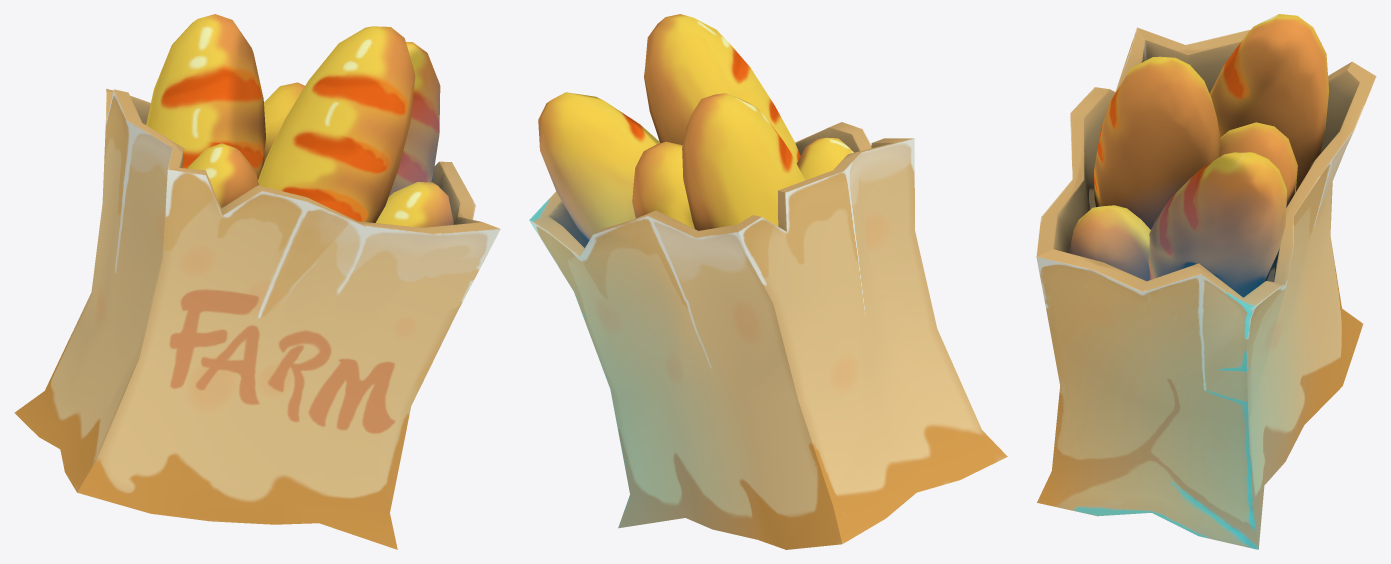
The model's file is bread.glb.
3 renders of one model, left to right at view 1: azimuth 30°, elevation 25°; view 2: azimuth 150°, elevation 25°; view 3: azimuth 270°, elevation 25°, orthographic.
Visible parts, largest first — view 1: Bag_low, Bread1_low, Bread3_low, Bread2_low, Bread6_low, Bread5_low, Bread4_low; view 2: Bag_low, Bread3_low, Bread2_low, Bread1_low, Bread4_low, Bread5_low; view 3: Bag_low, Bread1_low, Bread2_low, Bread3_low, Bread6_low, Bread4_low.
Part boxes in pixels (x1,y1,x2,y2): Bag_low: (14, 88, 500, 549); Bread1_low: (258, 26, 415, 222); Bread3_low: (146, 14, 265, 179); Bread2_low: (388, 42, 440, 196); Bread6_low: (376, 182, 453, 227); Bread5_low: (187, 143, 258, 207); Bread4_low: (262, 82, 304, 168); Bag_low: (529, 122, 1007, 549); Bread3_low: (682, 93, 805, 230); Bread2_low: (538, 92, 660, 242); Bread1_low: (644, 14, 800, 163); Bread4_low: (632, 141, 694, 228); Bread5_low: (796, 137, 853, 180); Bag_low: (1036, 27, 1376, 549); Bread1_low: (1094, 56, 1221, 229); Bread2_low: (1148, 152, 1286, 297); Bread3_low: (1210, 14, 1328, 191); Bread6_low: (1069, 205, 1150, 281); Bread4_low: (1219, 122, 1297, 207).
Size of the model in its own units: 1.12 by 1.22 by 0.7774.
1 material, 1 textured.
